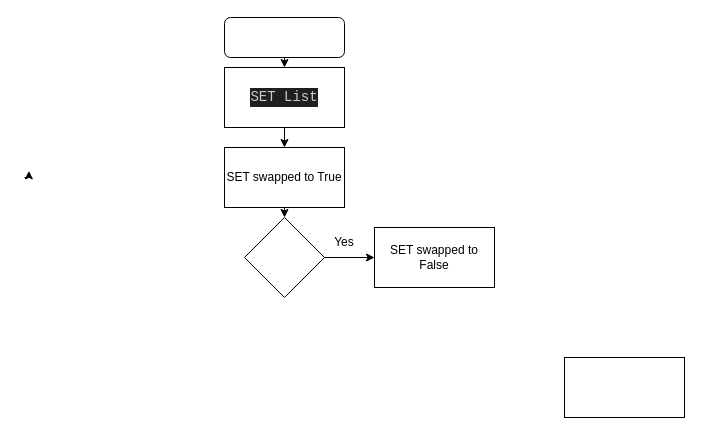
The diagram is 702 pixels wide and 435 high, and some of its shapes have lost their labels. Here are the shapes that lost their labels. From the top down, the box of each, then its label:
(224, 16, 344, 58): Begin
(244, 216, 324, 298): swapped is True
